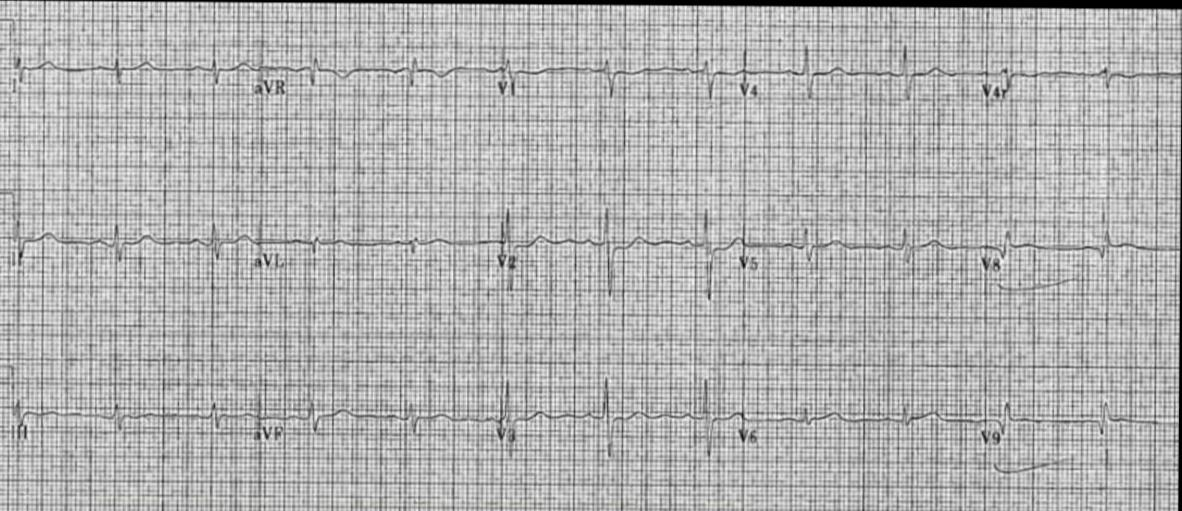Lead_I: (8, 195, 247, 288), (9, 35, 252, 124)
Lead_II: (13, 368, 250, 456)
Lead_V1: (496, 28, 742, 126)
Lead_V2: (492, 194, 737, 295)
Lead_V3: (496, 371, 738, 466)
Lead_V4: (741, 24, 985, 129)
Lead_V5: (735, 197, 978, 304)
Lead_V6: (738, 368, 979, 474)
Lead_aVF: (247, 371, 492, 463)
Lead_aVL: (248, 191, 491, 294)
Lead_aVR: (251, 32, 496, 130)
